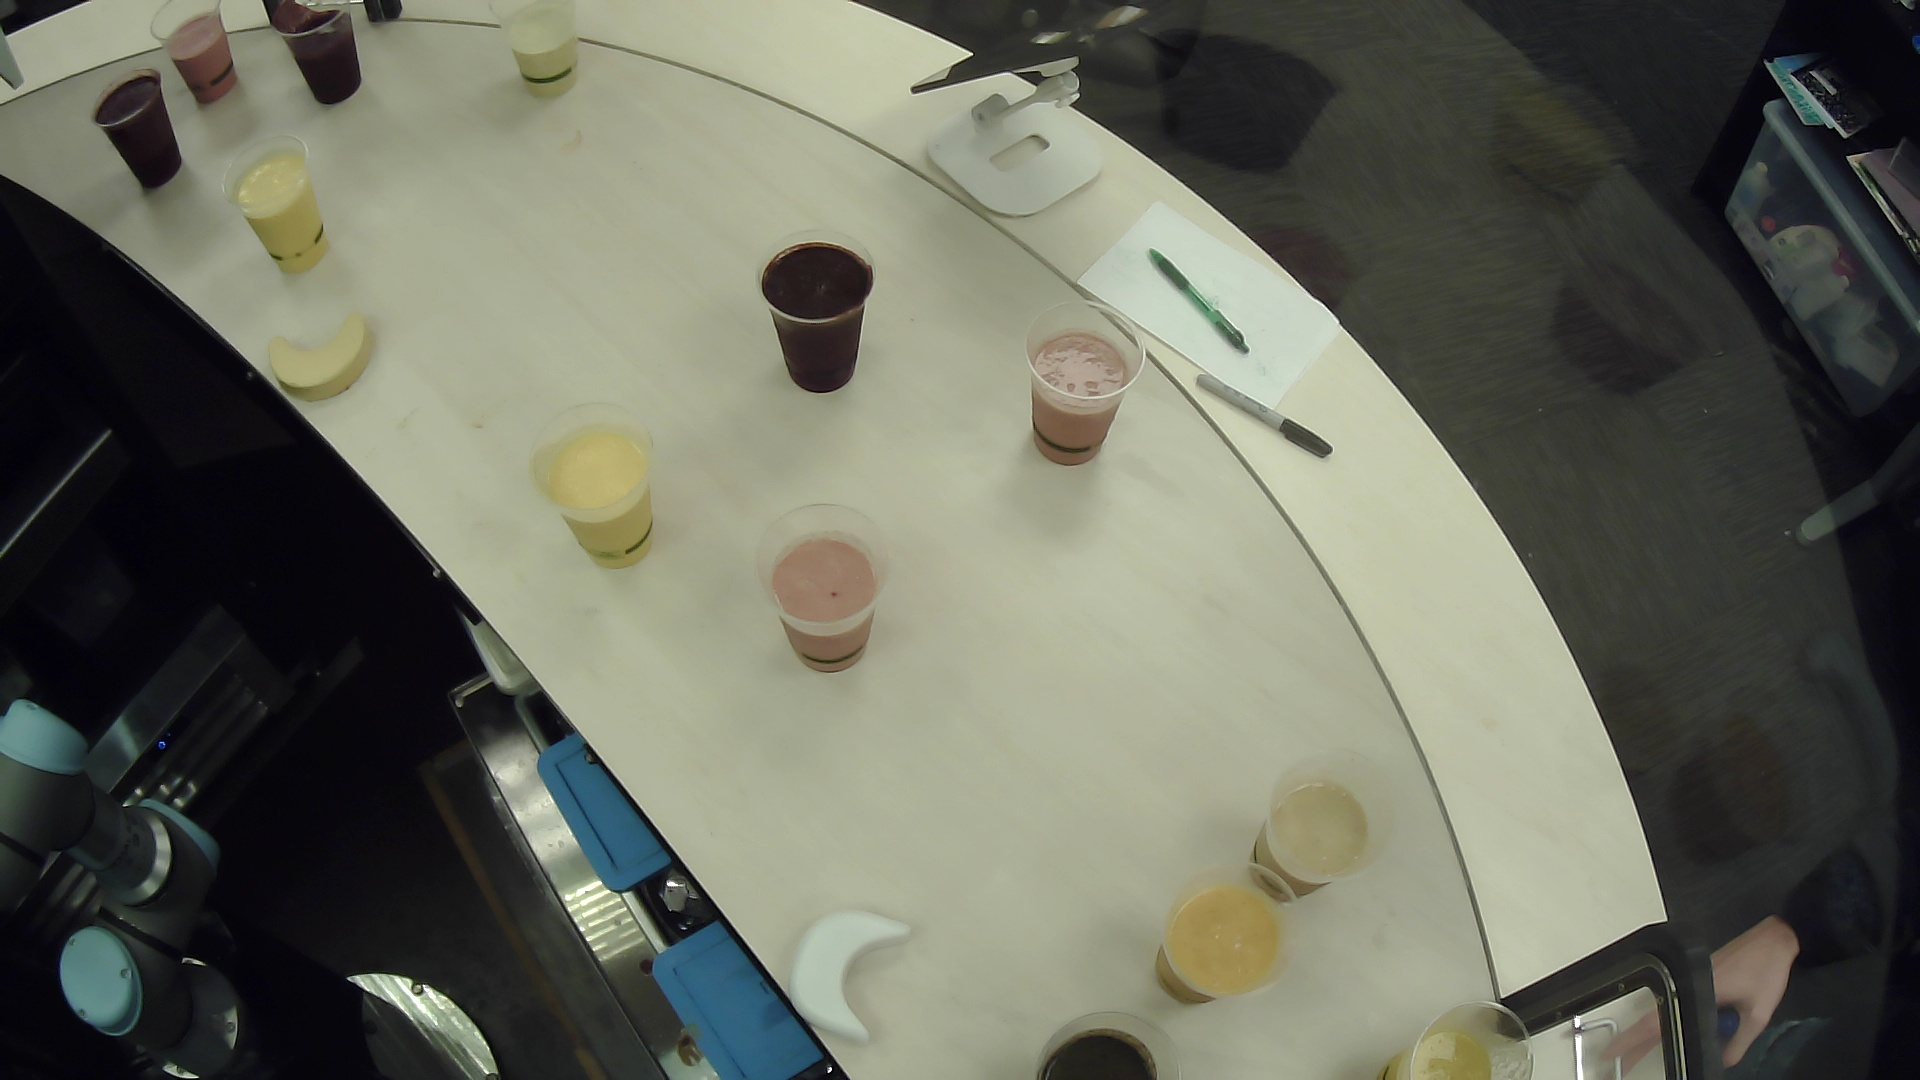Deliver: (765, 891, 920, 1058), (261, 299, 373, 413)
Full_cup: (1122, 831, 1309, 1026), (1211, 756, 1433, 916), (752, 483, 907, 687), (522, 394, 687, 584), (731, 229, 891, 422), (1010, 281, 1155, 479), (211, 115, 352, 287), (990, 986, 1203, 1080), (1367, 982, 1557, 1080), (257, 1, 400, 127), (86, 61, 207, 200), (496, 1, 620, 117), (146, 1, 260, 113)
